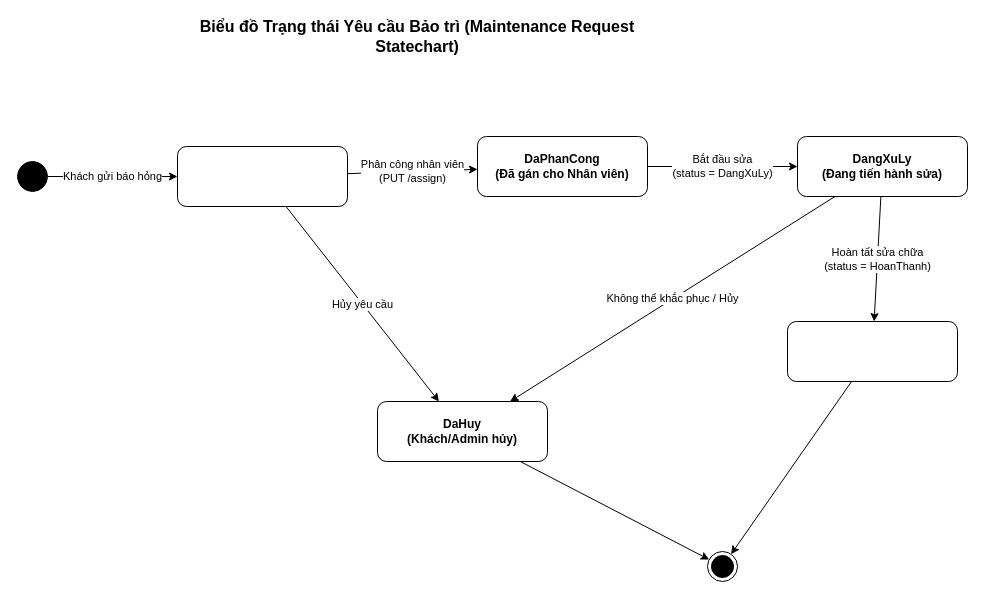
The diagram is 985 pixels wide and 599 high, and some of its shapes have lost their labels. The shapes that lost their labels are listed below. From the top down, each one's centre as x and y in pixels, then its label:
the point at 262,176: Moi (Mới tạo / Chờ tiếp nhận)
the point at 872,351: HoanThanh (Đã sửa xong)
